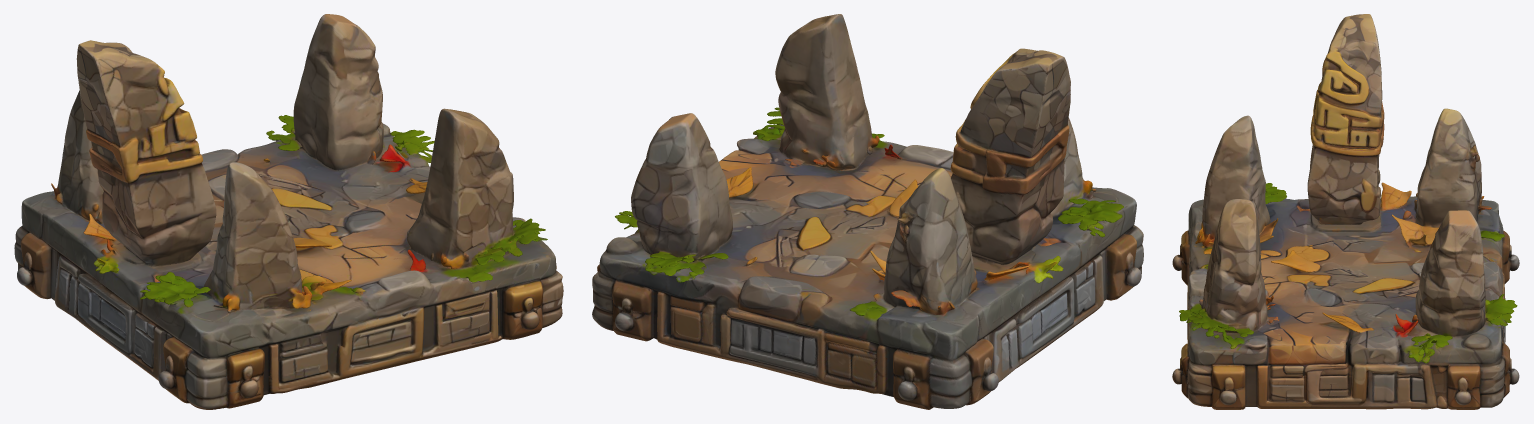
The model's file is spike-trap.glb.
3 views of the same model, side by side, from view 1: azimuth 30°, elevation 25°; view 2: azimuth 150°, elevation 25°; view 3: azimuth 270°, elevation 25° (orthographic). The views are drawn at different scales.
Visible parts, largest first — view 1: tripo_node_ce1c614b-55ec-443f-96bc-da45144dcd04; view 2: tripo_node_ce1c614b-55ec-443f-96bc-da45144dcd04; view 3: tripo_node_ce1c614b-55ec-443f-96bc-da45144dcd04.
Boxes of the visible parts, <box> form: tripo_node_ce1c614b-55ec-443f-96bc-da45144dcd04: <box>14,14,563,409</box>; tripo_node_ce1c614b-55ec-443f-96bc-da45144dcd04: <box>592,14,1143,409</box>; tripo_node_ce1c614b-55ec-443f-96bc-da45144dcd04: <box>1172,14,1519,409</box>.
Size of the model in its own units: 1 by 0.7128 by 0.9116.
1 material, 1 textured.
